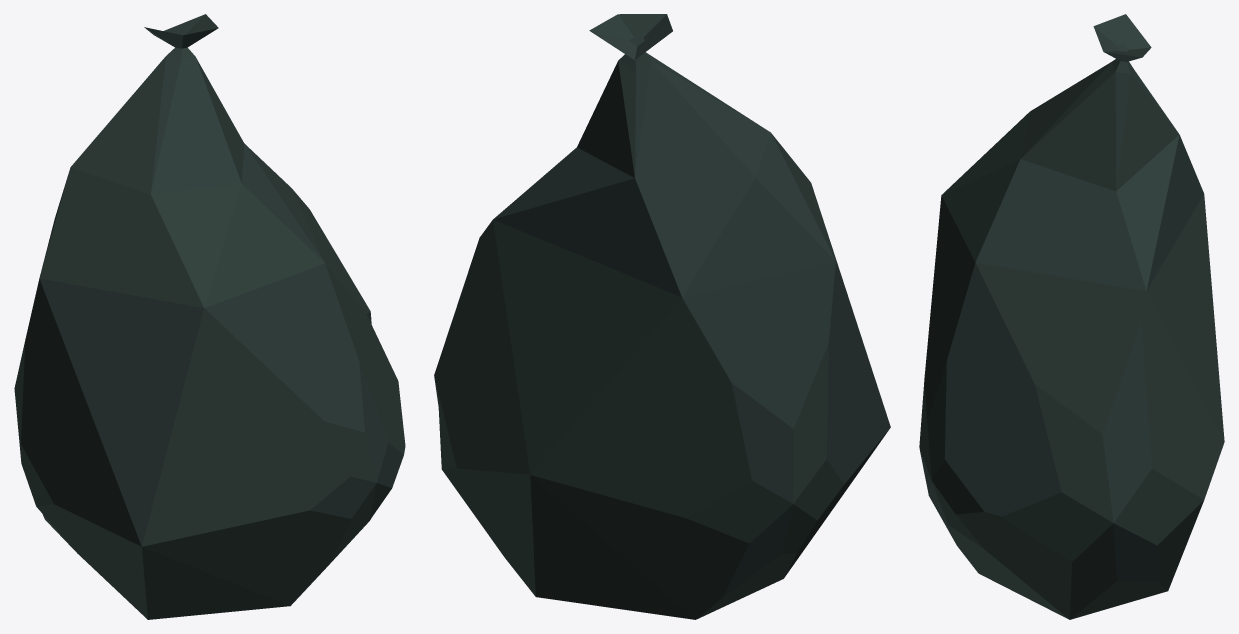
The model's file is TrashBag.fbx.
3 views of the same model, side by side, from view 1: azimuth 30°, elevation 25°; view 2: azimuth 150°, elevation 25°; view 3: azimuth 270°, elevation 25° (orthographic). The views are drawn at different scales.
Parts seen in each view (by area): view 1: TrashBag; view 2: TrashBag; view 3: TrashBag.
Boxes of the visible parts, x1,y1,x2,y2 form: TrashBag: [14, 14, 405, 619]; TrashBag: [434, 14, 890, 619]; TrashBag: [919, 14, 1224, 619].
Size of the model in its own units: 31.32 by 45 by 23.65.
